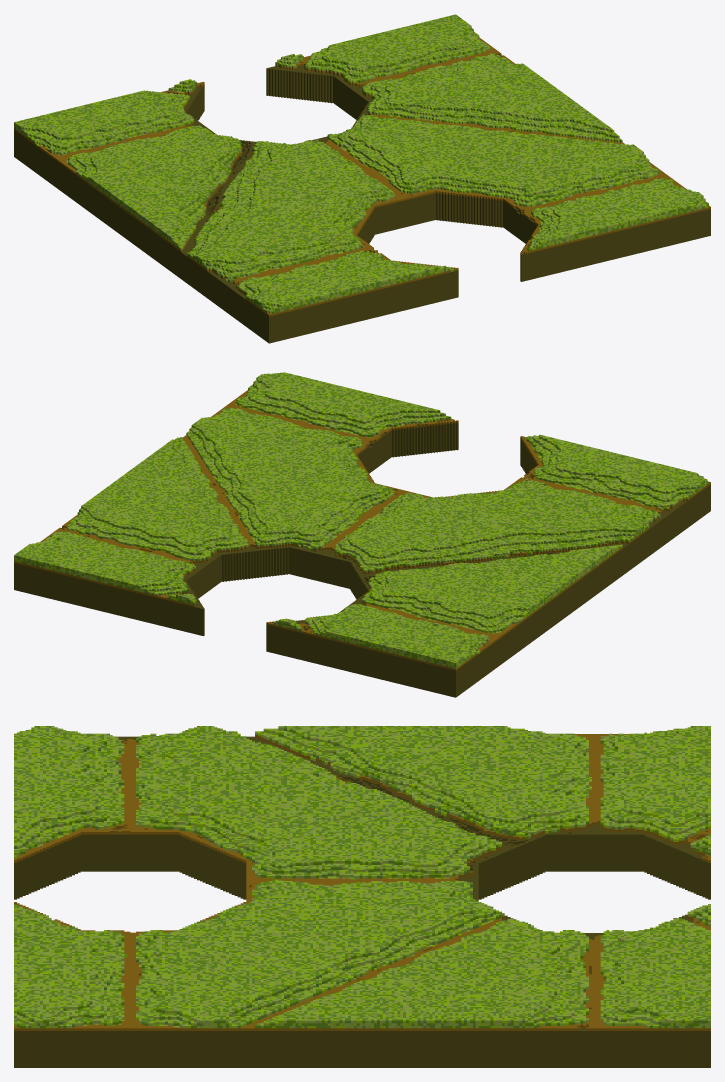
Rendered from Tab B3-0.obj.
3 views of the same model, one above another, from view 1: azimuth 30°, elevation 25°; view 2: azimuth 150°, elevation 25°; view 3: azimuth 270°, elevation 25° (orthographic). The views are drawn at different scales.
Size of the model in its own units: 24 by 1.8 by 24.
Materials: 1 (1 with a texture image).
